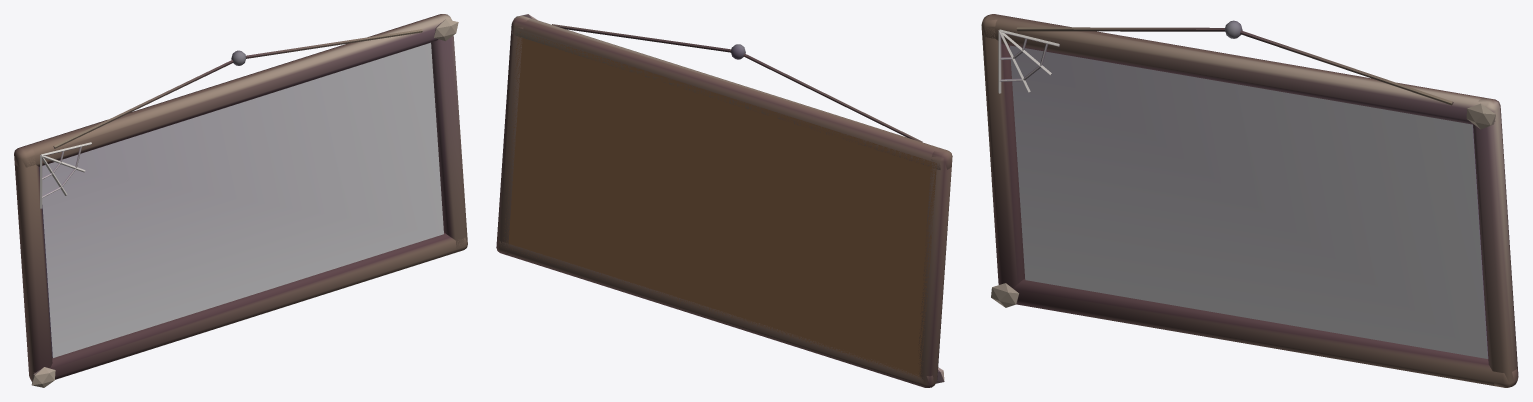
The model's file is board_broken.glb.
3 views of the same model, side by side, from view 1: azimuth 30°, elevation 25°; view 2: azimuth 150°, elevation 25°; view 3: azimuth 330°, elevation 25° (orthographic). The views are drawn at different scales.
Visible parts, largest first — view 1: board_broken_menu, board_broken; view 2: board_broken; view 3: board_broken_menu, board_broken.
Part boxes in pixels (x1,y1,x2,y2): board_broken_menu: (39, 42, 443, 357); board_broken: (14, 14, 467, 387); board_broken: (496, 14, 952, 387); board_broken_menu: (1010, 45, 1488, 358); board_broken: (981, 14, 1518, 387).
Bounding box in the file's own units: 2.68 × 1.65 × 0.15.
